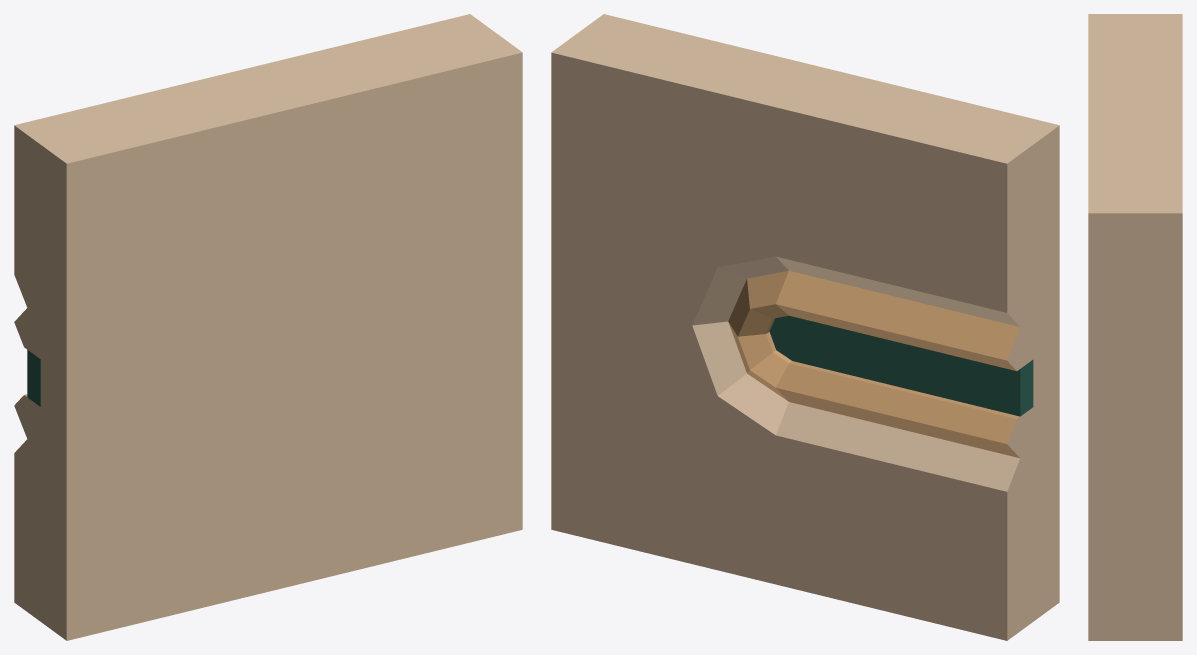
Rendered from Puzzle_Wall_Conduit_Path_End.fbx.
3 views of the same model, side by side, from view 1: azimuth 30°, elevation 25°; view 2: azimuth 150°, elevation 25°; view 3: azimuth 270°, elevation 25° (orthographic). The views are drawn at different scales.
Parts seen in each view (by area): view 1: Sandstone_Trim.Sandstone_Trim.Sandstone_Trim; view 2: Sandstone_Trim.Sandstone_Trim.Sandstone_Trim, Sandstone_5.Sandstone_5.Sandstone_5.object2, object1; view 3: Sandstone_Trim.Sandstone_Trim.Sandstone_Trim.
Boxes of the visible parts, x1,y1,x2,y2 form: Sandstone_Trim.Sandstone_Trim.Sandstone_Trim: (14, 14, 522, 640); Sandstone_Trim.Sandstone_Trim.Sandstone_Trim: (551, 14, 1059, 640); Sandstone_5.Sandstone_5.Sandstone_5.object2: (728, 270, 1020, 458); object1: (769, 315, 1033, 416); Sandstone_Trim.Sandstone_Trim.Sandstone_Trim: (1088, 14, 1182, 640).
Bounding box in the file's own units: 1 × 1 × 0.2.
